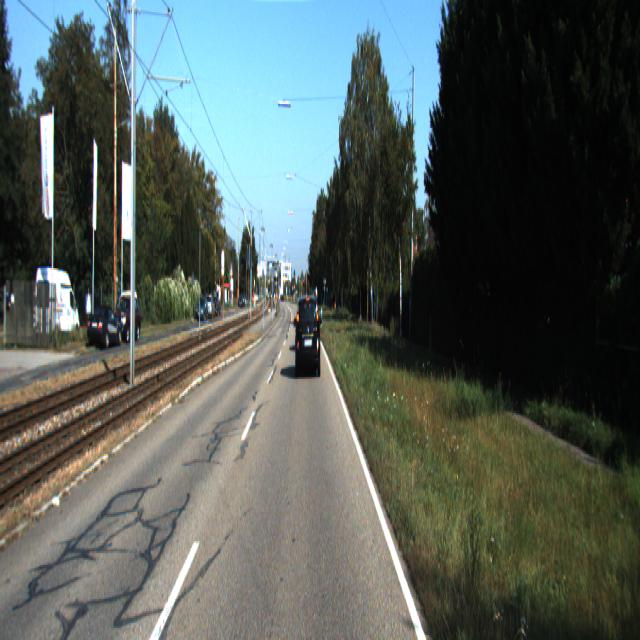Car: (34, 268, 81, 348), (296, 293, 322, 378), (86, 306, 124, 354), (111, 297, 142, 345)
